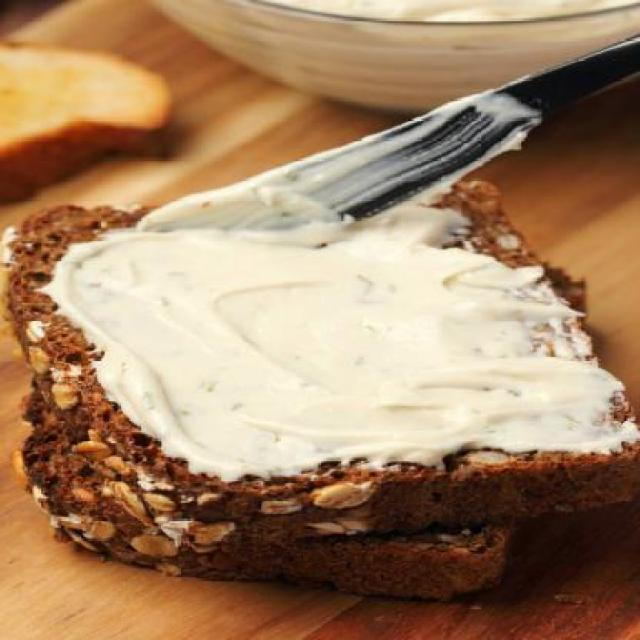Spread: (58, 216, 610, 464)
